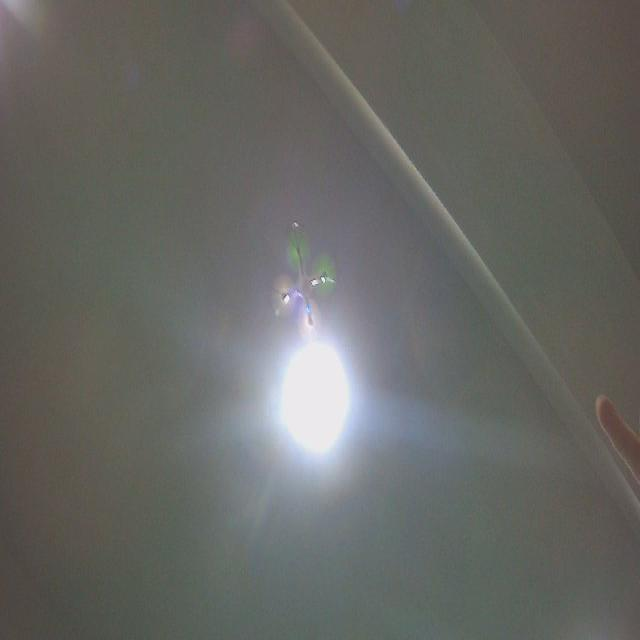drone: (266, 219, 341, 352)
